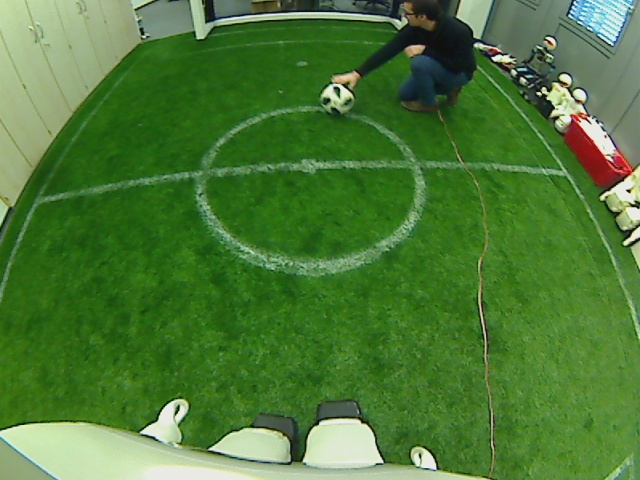ball: (318, 82, 354, 116)
